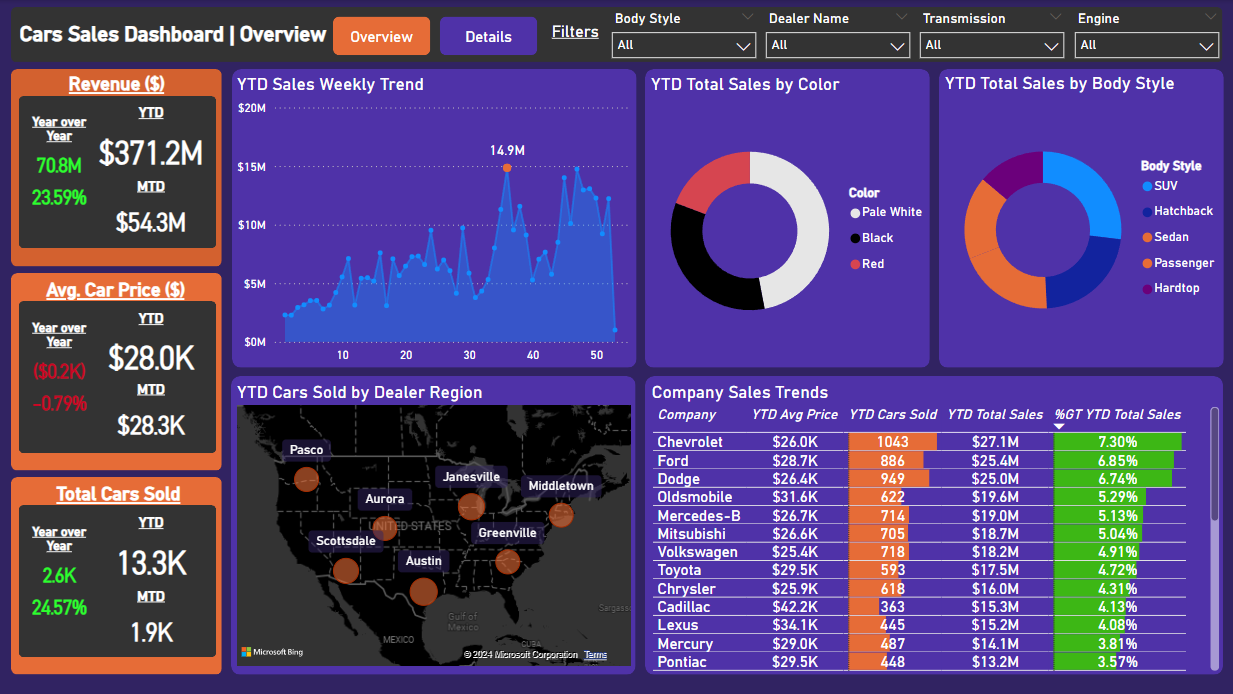

Layout of this report page (visuals, bound fields, positions):
{"tool":"powerbi","page":{"name":"Overview","canvas":[1280,720],"ordinal":0},"visuals":[{"type":"group","id":"g1","title":"Group 1","box":[11.7,7.8,1258.6,693.5],"z":0},{"type":"shape","box":[240.2,391,420.2,310.3],"z":0,"group":"g1"},{"type":"shape","box":[12.5,312.5,219,165],"z":1000},{"type":"shape","box":[670.2,391,600.1,310.3],"z":1000,"group":"g1"},{"type":"textbox","box":[12,8,335.6,60.3],"z":2000,"group":"g5"},{"type":"shape","box":[240.7,72,420.2,310.3],"z":2000,"group":"g1"},{"type":"shape","box":[12.5,99.7,219,165],"z":2000},{"type":"shape","box":[11.7,7.8,1257.6,57.4],"z":3000,"group":"g1"},{"type":"shape","box":[12.5,524.2,219,165],"z":3000},{"type":"slicer","fields":{"Values":["car_data.Body Style"]},"box":[630,10.7,160,49.6],"z":4000},{"type":"shape","box":[11.7,72,218.8,205.2],"z":4000,"group":"g1"},{"type":"slicer","fields":{"Values":["car_data.Transmission"]},"box":[950,10.7,160,50],"z":5000},{"type":"shape","box":[11.7,284,218.8,205.2],"z":5000,"group":"g1"},{"type":"slicer","fields":{"Values":["car_data.Engine"]},"box":[1110.8,10.7,160,50],"z":6000},{"type":"shape","box":[11.7,496,218.8,205.2],"z":6000,"group":"g1"},{"type":"slicer","fields":{"Values":["car_data.Dealer_Name"]},"box":[790,10.7,160,49.6],"z":7000},{"type":"shape","box":[670.2,72,295.7,310.3],"z":7000,"group":"g1"},{"type":"areaChart","title":"YTD Sales Weekly Trend","fields":{"Category":["Calendar Table.Week"],"Y":["Sum(car_data.Price ($))","car_data.Max Point"]},"box":[241.2,72,419.2,310.3],"z":8000},{"type":"shape","box":[974.6,72,295.7,310.3],"z":8000,"group":"g1"},{"type":"donutChart","title":"YTD Total Sales by Color","fields":{"Y":["car_data.YTD Total Sales"],"Category":["car_data.Color"]},"box":[671.1,72,295.7,310.3],"z":9000},{"type":"donutChart","title":" YTD Total Sales by Body Style","fields":{"Category":["car_data.Body Style"],"Y":["car_data.YTD Total Sales"]},"box":[975.6,71,294.7,310.3],"z":10000},{"type":"tableEx","title":"Company Sales Trends","fields":{"Values":["car_data.Company","car_data.YTD Avg Price","car_data.YTD Cars Sold","car_data.YTD Total Sales1","car_data.YTD Total Sales"]},"box":[672.1,391,599.1,310.3],"z":11000},{"type":"group","id":"g2","title":"Group 2","box":[12.6,71,217,29.3],"z":12000},{"type":"group","id":"g3","title":"Group 2","box":[10.7,284,218.8,28.2],"z":13000},{"type":"group","id":"g4","title":"Group 2","box":[13.6,496,218.8,28.2],"z":14000},{"type":"map","title":"YTD Cars Sold by Dealer Region","fields":{"Category":["car_data.Dealer_Region"],"Size":["car_data.YTD Cars Sold"]},"box":[241.2,391,419.2,310.3],"z":15000},{"type":"group","id":"g5","title":"Group 3","box":[12,7.8,614.4,60.5],"z":16000},{"type":"card","title":"YTD","fields":{"Values":["car_data.YTD Total Sales"]},"box":[90.3,98.6,131,87.2],"z":17000},{"type":"card","title":"Year over Year","fields":{"Values":["car_data.Sales Difference"]},"box":[18,98.6,72.7,87.2],"z":18000},{"type":"card","title":"YoY Growth","fields":{"Values":["car_data.YoY Sales Growth"]},"box":[18,184.8,72.7,60],"z":19000},{"type":"pageNavigator","title":"Tabs","box":[345.3,7.8,214,60.3],"z":20000,"group":"g5"},{"type":"card","title":"YTD","fields":{"Values":["car_data.YTD Avg Price"]},"box":[90,312.5,131,86.2],"z":20000},{"type":"card","title":"Year over Year","fields":{"Values":["car_data.Average Price Difference"]},"box":[18,312.5,72.7,87.2],"z":21000},{"type":"card","title":"YoY Growth","fields":{"Values":["car_data.YoY Avg Price"]},"box":[18,399,72.7,60],"z":22000},{"type":"card","title":"MTD","fields":{"Values":["car_data.MTD Avg Price"]},"box":[90,396,131,87.2],"z":23000},{"type":"card","title":"YTD","fields":{"Values":["car_data.YTD Cars Sold"]},"box":[90,524,131,87.2],"z":24000},{"type":"card","title":"MTD","fields":{"Values":["car_data.MTD Cars Sold"]},"box":[90,610,131,87],"z":25000},{"type":"card","title":"Year over Year","fields":{"Values":["car_data.Cars Sold Difference"]},"box":[18,524.2,72.7,88.2],"z":26000},{"type":"card","title":"YoY Growth","fields":{"Values":["car_data.YoY Cars Sold"]},"box":[18,610,73,60],"z":27000},{"type":"card","title":"MTD","fields":{"Values":["car_data.MTD Sales"]},"box":[90,184.8,131,87.2],"z":28000},{"type":"textbox","box":[559.3,7.8,67.1,60.3],"z":30000,"group":"g5"},{"type":"textbox","box":[12.6,71,217,29.3],"z":31000,"group":"g2"},{"type":"textbox","box":[10.7,284,218.8,28.2],"z":31000,"group":"g3"},{"type":"textbox","box":[13.6,496,218.8,28.2],"z":31000,"group":"g4"}]}

Visuals, with their boxes in screenshot pixels (x1, y1, x2, y2), scaled from the page's 1280x720 canvas onto the 1233x694 screenshot:
"Group 1" group: x1=11, y1=8, x2=1224, y2=676
shape: x1=231, y1=377, x2=636, y2=676
shape: x1=12, y1=301, x2=223, y2=460
shape: x1=646, y1=377, x2=1224, y2=676
textbox: x1=12, y1=8, x2=335, y2=66
shape: x1=232, y1=69, x2=637, y2=368
shape: x1=12, y1=96, x2=223, y2=255
shape: x1=11, y1=8, x2=1223, y2=63
shape: x1=12, y1=505, x2=223, y2=664
slicer - car_data.Body Style: x1=607, y1=10, x2=761, y2=58
shape: x1=11, y1=69, x2=222, y2=267
slicer - car_data.Transmission: x1=915, y1=10, x2=1069, y2=59
shape: x1=11, y1=274, x2=222, y2=472
slicer - car_data.Engine: x1=1070, y1=10, x2=1224, y2=59
shape: x1=11, y1=478, x2=222, y2=676
slicer - car_data.Dealer_Name: x1=761, y1=10, x2=915, y2=58
shape: x1=646, y1=69, x2=930, y2=368
"YTD Sales Weekly Trend" areaChart: x1=232, y1=69, x2=636, y2=368
shape: x1=939, y1=69, x2=1224, y2=368
"YTD Total Sales by Color" donutChart: x1=646, y1=69, x2=931, y2=368
" YTD Total Sales by Body Style" donutChart: x1=940, y1=68, x2=1224, y2=368
"Company Sales Trends" tableEx: x1=647, y1=377, x2=1225, y2=676
"Group 2" group: x1=12, y1=68, x2=221, y2=97
"Group 2" group: x1=10, y1=274, x2=221, y2=301
"Group 2" group: x1=13, y1=478, x2=224, y2=505
"YTD Cars Sold by Dealer Region" map: x1=232, y1=377, x2=636, y2=676
"Group 3" group: x1=12, y1=8, x2=603, y2=66
"YTD" card: x1=87, y1=95, x2=213, y2=179
"Year over Year" card: x1=17, y1=95, x2=87, y2=179
"YoY Growth" card: x1=17, y1=178, x2=87, y2=236
"Tabs" pageNavigator: x1=333, y1=8, x2=539, y2=66
"YTD" card: x1=87, y1=301, x2=213, y2=384
"Year over Year" card: x1=17, y1=301, x2=87, y2=385
"YoY Growth" card: x1=17, y1=385, x2=87, y2=442
"MTD" card: x1=87, y1=382, x2=213, y2=466
"YTD" card: x1=87, y1=505, x2=213, y2=589
"MTD" card: x1=87, y1=588, x2=213, y2=672
"Year over Year" card: x1=17, y1=505, x2=87, y2=590
"YoY Growth" card: x1=17, y1=588, x2=88, y2=646
"MTD" card: x1=87, y1=178, x2=213, y2=262
textbox: x1=539, y1=8, x2=603, y2=66
textbox: x1=12, y1=68, x2=221, y2=97
textbox: x1=10, y1=274, x2=221, y2=301
textbox: x1=13, y1=478, x2=224, y2=505
